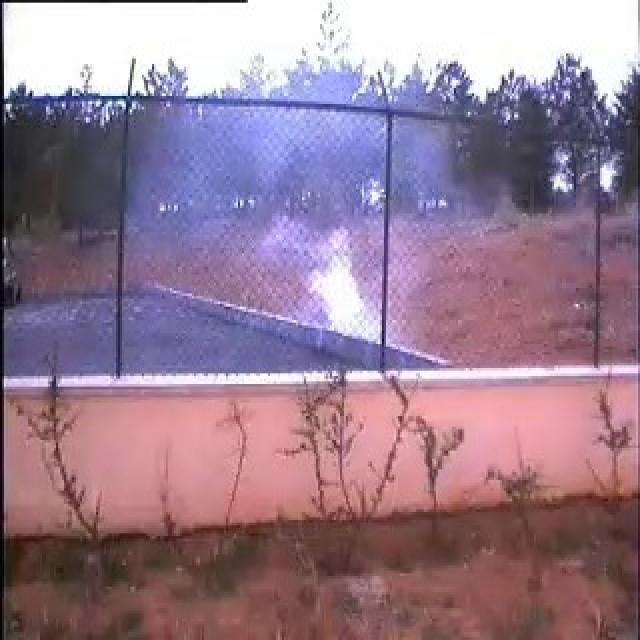smoke: (255, 120, 402, 343)
